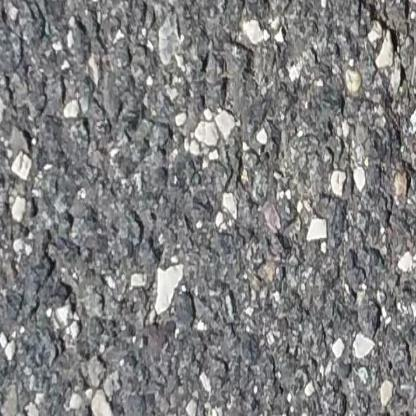Cracks: (349, 0, 415, 97), (401, 156, 416, 199)
